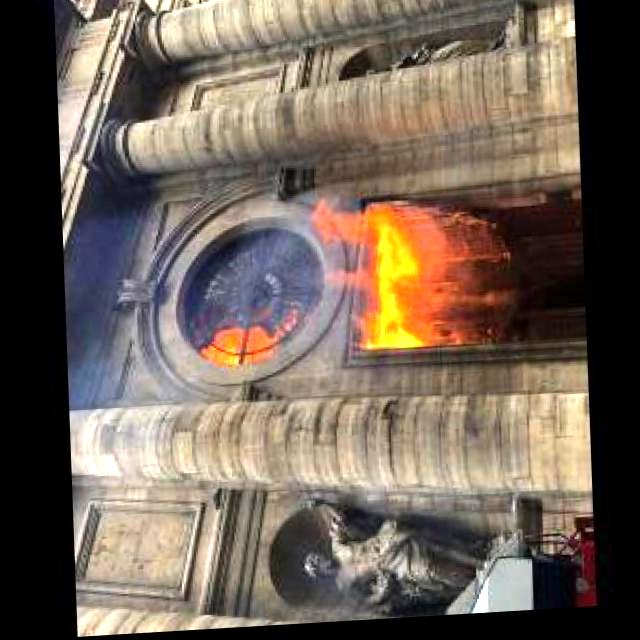fire: (308, 193, 440, 365), (188, 319, 276, 377)
